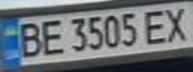0: (103, 12, 124, 50)
3: (66, 16, 87, 53)
5: (118, 10, 145, 48), (84, 14, 106, 52)
B: (12, 19, 45, 60)
E: (139, 7, 172, 45), (36, 17, 66, 57)
X: (160, 3, 193, 43)
